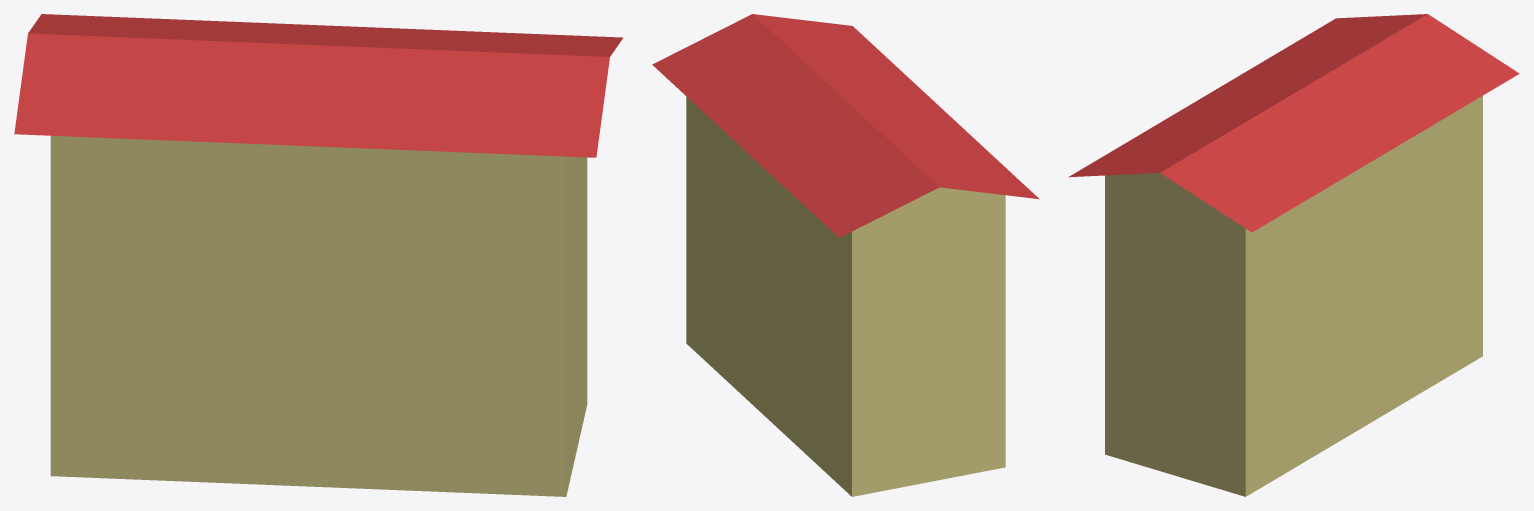
3 renders of one model, left to right at view 1: azimuth 30°, elevation 25°; view 2: azimuth 150°, elevation 25°; view 3: azimuth 270°, elevation 25°, orthographic. The views are drawn at different scales.
Parts seen in each view (by area): view 1: group_5, group_3, group_4; view 2: group_5, group_3, group_4; view 3: group_5, group_3, group_4.
Part boxes in pixels (x1,y1,x2,y2): group_5: [50, 135, 587, 496]; group_3: [14, 20, 609, 155]; group_4: [20, 14, 622, 157]; group_5: [686, 96, 1005, 496]; group_3: [686, 14, 1039, 230]; group_4: [652, 14, 1037, 237]; group_5: [1105, 96, 1482, 496]; group_3: [1106, 14, 1482, 209]; group_4: [1068, 14, 1519, 232].
Bounding box in the file's own units: 9.61 × 8.56 × 6.52.
